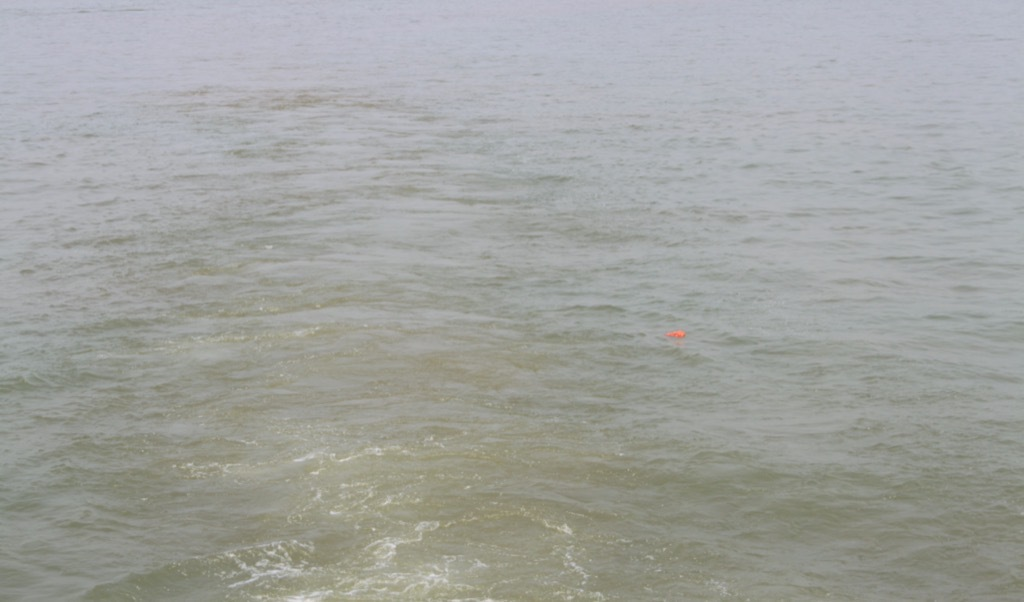plastic: (659, 322, 692, 359)
